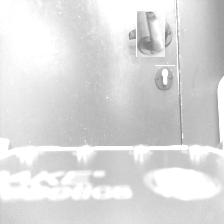Door Handle: (132, 16, 170, 53)
Lock: (155, 65, 175, 90)
